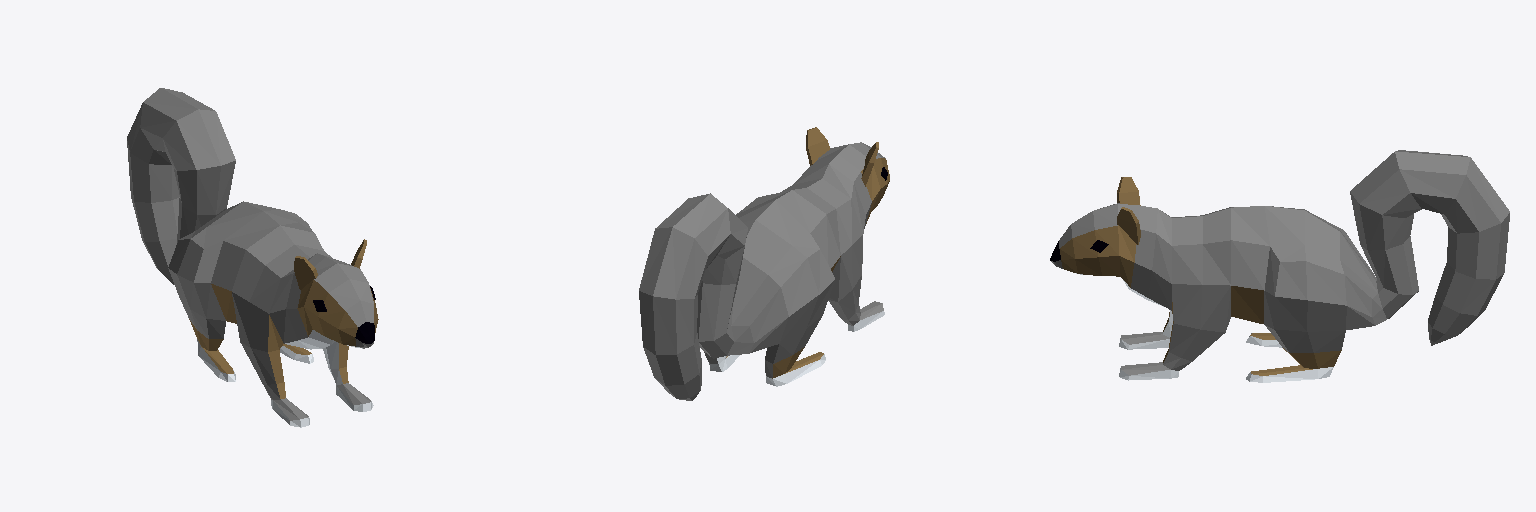
3 renders of one model, left to right at view 1: azimuth 30°, elevation 25°; view 2: azimuth 150°, elevation 25°; view 3: azimuth 270°, elevation 25°, orthographic.
Visible parts, largest first — view 1: Geo_Squirrel; view 2: Geo_Squirrel; view 3: Geo_Squirrel.
Boxes of the visible parts, <box> form: Geo_Squirrel: <box>127,88,378,427</box>; Geo_Squirrel: <box>639,127,889,400</box>; Geo_Squirrel: <box>1050,150,1509,382</box>.
Bounding box in the file's own units: 28.21 × 43.28 × 86.43.
Materials: 1 (1 with a texture image).